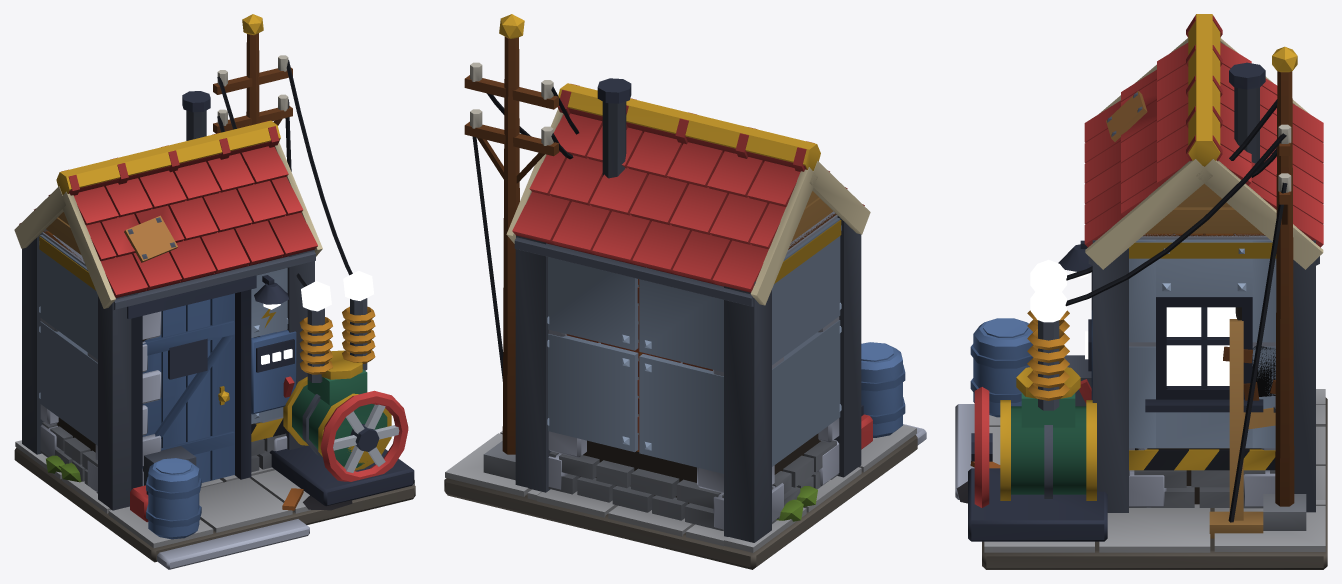
File: b_generator.glb
3 views of the same model, side by side, from view 1: azimuth 30°, elevation 25°; view 2: azimuth 150°, elevation 25°; view 3: azimuth 270°, elevation 25° (orthographic). The views are drawn at different scales.
Parts seen in each view (by area): view 1: body, lv7_haus, spin_rad, lv4_ausbau, lv4_haus, lv7_gold, pulse_spule_glow, pulse_spule2_glow, dmg2_bruch; view 2: body, lv7_haus, lv4_haus, lv4_ausbau, dmg2_bruch; view 3: body, lv7_haus, dmg2_bruch, lv4_ausbau, win_glow, lv7_gold, lv4_haus, spin_rad, pulse_spule2_glow, lvmax3_haus, pulse_spule_glow.
Boxes of the visible parts, x1=… form: body: x1=14, y1=33, x2=415, y2=569; lv7_haus: x1=22, y1=120, x2=314, y2=510; spin_rad: x1=320, y1=390, x2=408, y2=481; lv4_ausbau: x1=143, y1=446, x2=201, y2=539; lv4_haus: x1=40, y1=232, x2=287, y2=492; lv7_gold: x1=242, y1=14, x2=391, y2=470; pulse_spule_glow: x1=301, y1=281, x2=331, y2=311; pulse_spule2_glow: x1=343, y1=270, x2=373, y2=300; dmg2_bruch: x1=282, y1=99, x2=303, y2=510; body: x1=444, y1=36, x2=926, y2=569; lv7_haus: x1=515, y1=83, x2=861, y2=542; lv4_haus: x1=548, y1=211, x2=839, y2=529; lv4_ausbau: x1=861, y1=342, x2=905, y2=437; dmg2_bruch: x1=472, y1=136, x2=503, y2=381; body: x1=955, y1=15, x2=1327, y2=569; lv7_haus: x1=1092, y1=14, x2=1315, y2=512; dmg2_bruch: x1=970, y1=182, x2=1287, y2=538; lv4_ausbau: x1=970, y1=318, x2=1091, y2=417; win_glow: x1=1166, y1=307, x2=1236, y2=385; lv7_gold: x1=1000, y1=46, x2=1297, y2=500; lv4_haus: x1=1129, y1=234, x2=1275, y2=507; spin_rad: x1=971, y1=387, x2=992, y2=507; pulse_spule2_glow: x1=1030, y1=285, x2=1066, y2=322; lvmax3_haus: x1=1143, y1=233, x2=1275, y2=429; pulse_spule_glow: x1=1030, y1=259, x2=1066, y2=291.
Bounding box in the file's own units: 3.53 × 5.14 × 3.47.
